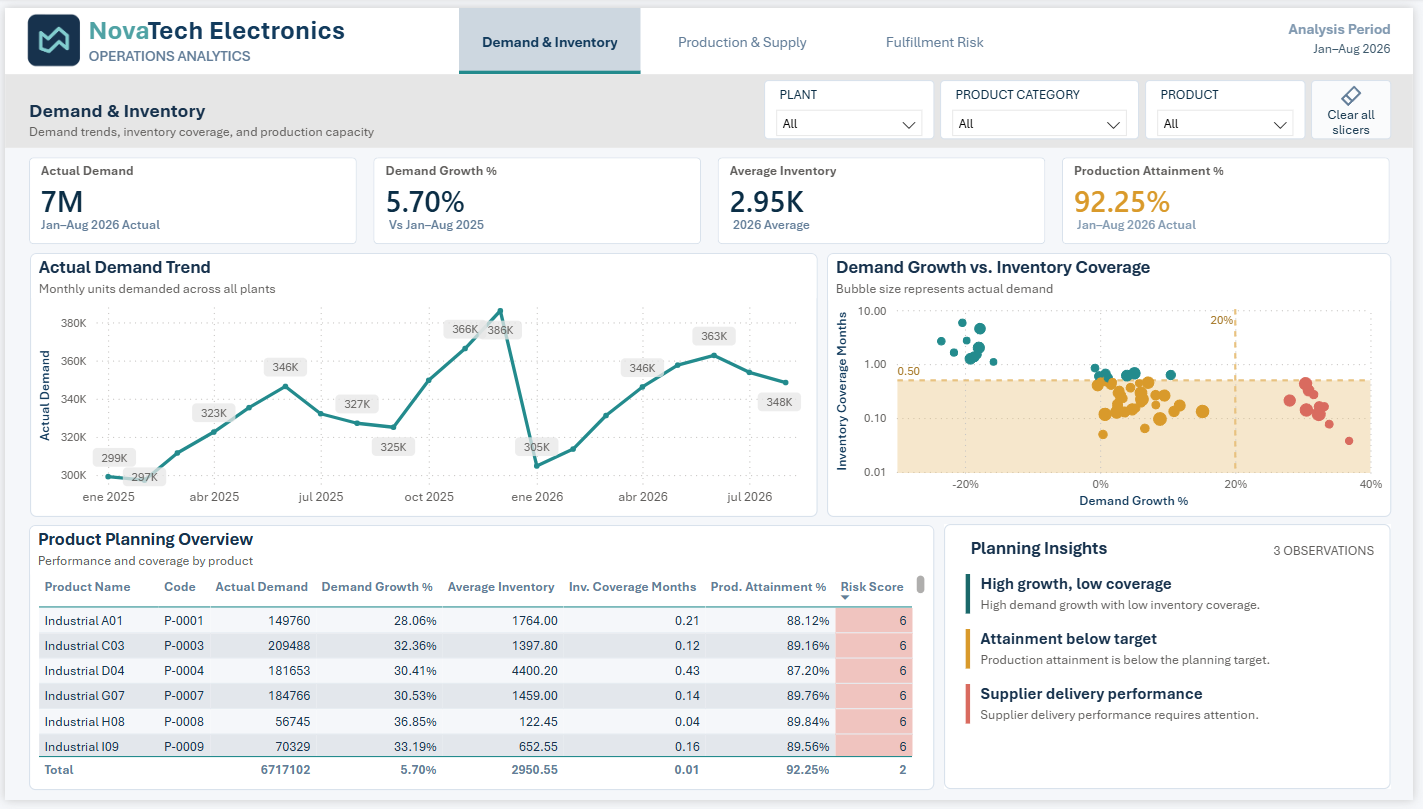

Layout of this report page (visuals, bound fields, positions):
{"tool":"powerbi","page":{"name":"Demand & Inventory","canvas":[1280,720],"ordinal":0},"visuals":[{"type":"lineChart","title":"Actual Demand Trend","fields":{"Y":["_measures.Actual Demand"],"Category":["dim_date.full_date"]},"box":[23,223,716,240],"z":0},{"type":"shape","title":"forma insigths","box":[853.8,468.8,406,241],"z":0,"group":"g1"},{"type":"scatterChart","title":"Demand Growth vs. Inventory Coverage","fields":{"X":["_measures.Demand Growth %"],"Y":["_measures.Inventory Coverage Months"],"Size":["_measures.Actual Demand"],"Category":["dim_product.product_name"]},"box":[747,223,513,240],"z":1000},{"type":"shape","box":[869.1,513.8,12.5,36],"z":1000,"group":"g1"},{"type":"tableEx","title":"Product Planning Overview","fields":{"Values":["dim_product.product_name","dim_product.product_code","_measures.Actual Demand","_measures.Demand Growth %","_measures.Average Inventory","_measures.Inventory Coverage Months","_measures.Production Attainment %","_measures.Fulfillment Risk Score"]},"box":[22.2,470,823.3,241.1],"z":2000},{"type":"shape","box":[869.1,613.8,12.5,36],"z":2000,"group":"g1"},{"type":"shape","title":"fondoblanco","box":[0,0,1280,60],"z":3000},{"type":"shape","box":[869.1,563.8,12.5,36],"z":3000,"group":"g1"},{"type":"shape","title":"formagris","box":[0,60,1280,67],"z":4000},{"type":"textbox","title":"Supplier delivery performance","box":[881.6,614.3,371.5,35.5],"z":4000,"group":"g1"},{"type":"pageNavigator","box":[412.5,0,516.7,60],"z":5000},{"type":"textbox","title":"Attainment below target","box":[881.6,564.3,371.5,35.5],"z":5000,"group":"g1"},{"type":"textbox","title":"header","box":[71,0,262.4,60.3],"z":6000},{"type":"textbox","title":"High growth, low coverage","box":[881.6,514.3,371.5,35.5],"z":6000,"group":"g1"},{"type":"cardVisual","title":"Demand & Inventory","fields":{"Data":["_measures.Actual Demand","_measures.Demand Growth %","_measures.Average Inventory","_measures.Production Attainment %"]},"box":[22,83,1237.9,132.6],"z":7000},{"type":"textbox","box":[1096.1,480.8,153.3,23.3],"z":7000,"group":"g1"},{"type":"textbox","box":[33,190,278.9,16],"z":8000},{"type":"textbox","title":"Planning Insights","box":[872.8,480.8,153.3,23.3],"z":8000,"group":"g1"},{"type":"textbox","box":[349.2,190,278.9,16],"z":9000},{"type":"textbox","box":[661.7,190,278.9,16],"z":10000},{"type":"textbox","box":[974.2,190,278.9,16],"z":11000},{"type":"textbox","title":"Analysis Period","box":[1146.7,10.7,113.3,38.7],"z":12000},{"type":"group","id":"g1","title":"insigths3","box":[853.8,468.8,406.2,241.2],"z":13000},{"type":"image","title":"LOGO","box":[15.9,4.1,59.7,51.4],"z":14000},{"type":"slicer","title":"PLANT","fields":{"Values":["dim_plant.plant_name"]},"box":[690.1,65.7,155,54],"z":15000},{"type":"slicer","title":"PRODUCT","fields":{"Values":["dim_product.product_name"]},"box":[1036.2,65.7,146,54],"z":16000},{"type":"slicer","title":"PRODUCT CATEGORY","fields":{"Values":["dim_product.product_category"]},"box":[850.2,65.8,180.9,53.6],"z":17000},{"type":"actionButton","box":[1187.3,65.6,72.9,54.1],"z":18000}]}

Visuals, with their boxes in screenshot pixels (x1, y1, x2, y2), scaled from the page's 1280x720 canvas onto the 1423x809 screenshot:
"Actual Demand Trend" lineChart: left=26, top=251, right=822, bottom=520
"forma insigths" shape: left=949, top=527, right=1401, bottom=798
"Demand Growth vs. Inventory Coverage" scatterChart: left=830, top=251, right=1401, bottom=520
shape: left=966, top=577, right=980, bottom=618
"Product Planning Overview" tableEx: left=25, top=528, right=940, bottom=799
shape: left=966, top=690, right=980, bottom=730
"fondoblanco" shape: left=0, top=0, right=1422, bottom=67
shape: left=966, top=633, right=980, bottom=674
"formagris" shape: left=0, top=67, right=1422, bottom=143
"Supplier delivery performance" textbox: left=980, top=690, right=1393, bottom=730
pageNavigator: left=459, top=0, right=1033, bottom=67
"Attainment below target" textbox: left=980, top=634, right=1393, bottom=674
"header" textbox: left=79, top=0, right=371, bottom=68
"High growth, low coverage" textbox: left=980, top=578, right=1393, bottom=618
"Demand & Inventory" cardVisual: left=24, top=93, right=1401, bottom=242
textbox: left=1219, top=540, right=1389, bottom=566
textbox: left=37, top=213, right=347, bottom=231
"Planning Insights" textbox: left=970, top=540, right=1141, bottom=566
textbox: left=388, top=213, right=698, bottom=231
textbox: left=736, top=213, right=1046, bottom=231
textbox: left=1083, top=213, right=1393, bottom=231
"Analysis Period" textbox: left=1275, top=12, right=1401, bottom=56
"insigths3" group: left=949, top=527, right=1401, bottom=798
"LOGO" image: left=18, top=5, right=84, bottom=62
"PLANT" slicer: left=767, top=74, right=940, bottom=134
"PRODUCT" slicer: left=1152, top=74, right=1314, bottom=134
"PRODUCT CATEGORY" slicer: left=945, top=74, right=1146, bottom=134
actionButton: left=1320, top=74, right=1401, bottom=134
